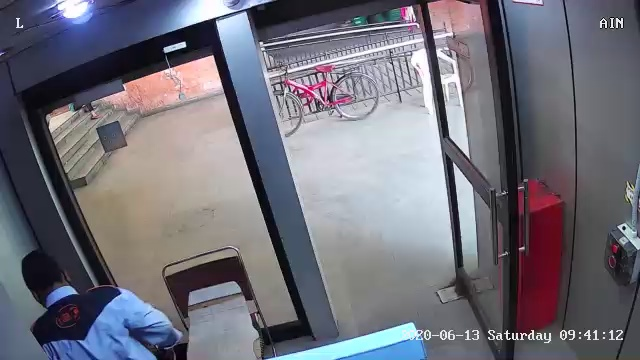open: (405, 5, 565, 350)
